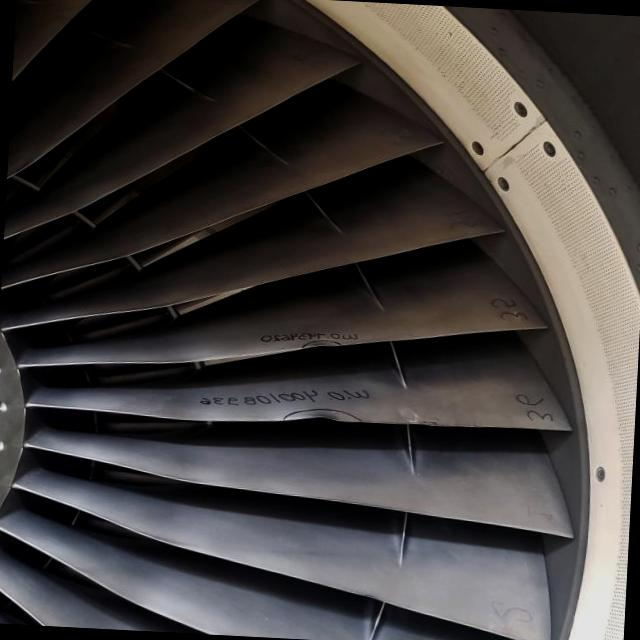dent: (288, 410, 354, 426), (298, 339, 342, 353), (404, 418, 441, 428)
